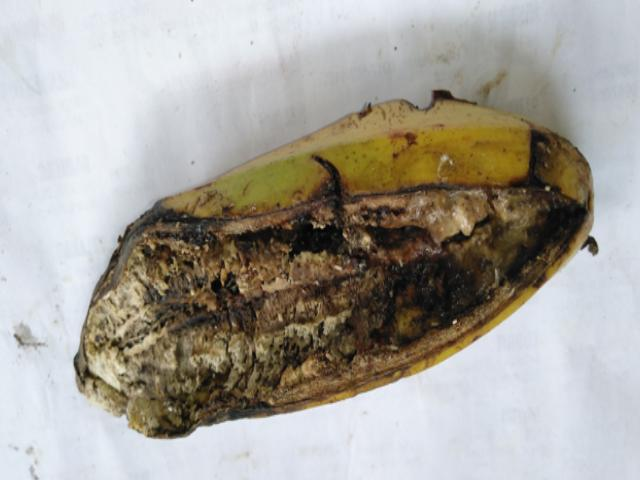rotten: (58, 70, 607, 451)
